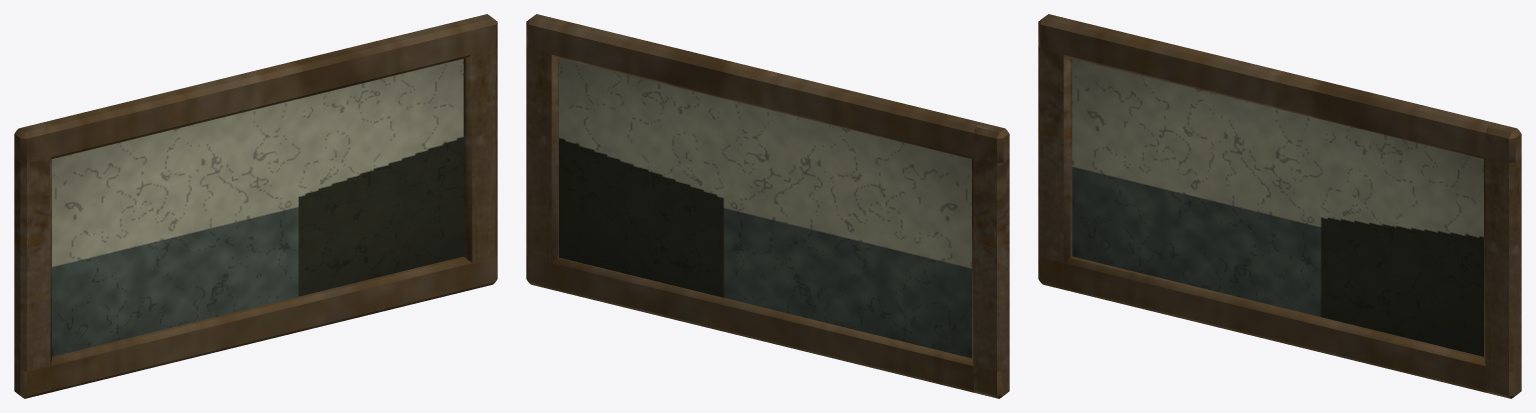
The model's file is Picture_Wide.fbx.
3 renders of one model, left to right at view 1: azimuth 30°, elevation 25°; view 2: azimuth 150°, elevation 25°; view 3: azimuth 330°, elevation 25°, orthographic.
Visible parts, largest first — view 1: Picture_Wide; view 2: Picture_Wide; view 3: Picture_Wide.
Part boxes in pixels (box(x1,y1,x2,y2)): Picture_Wide: box(14, 14, 497, 398); Picture_Wide: box(526, 14, 1009, 398); Picture_Wide: box(1038, 14, 1521, 398).
Size of the model in its own units: 0.9 by 0.48 by 0.035.
